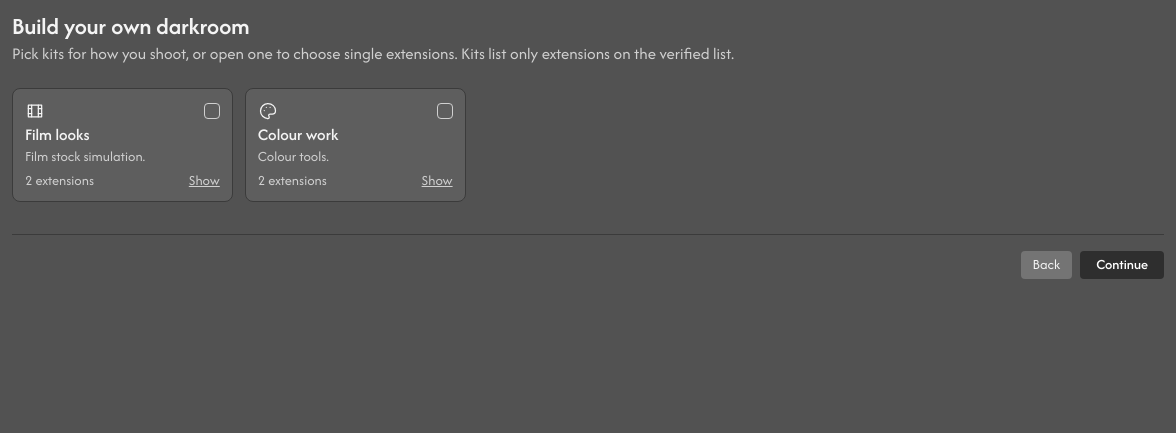
Scenario: KitsStep › shows a kit as mixed after one of its extensions is unticked
Click the checkbox labelled "Film looks" at (122, 133), box top-left (25, 101), bottom-right (220, 165)
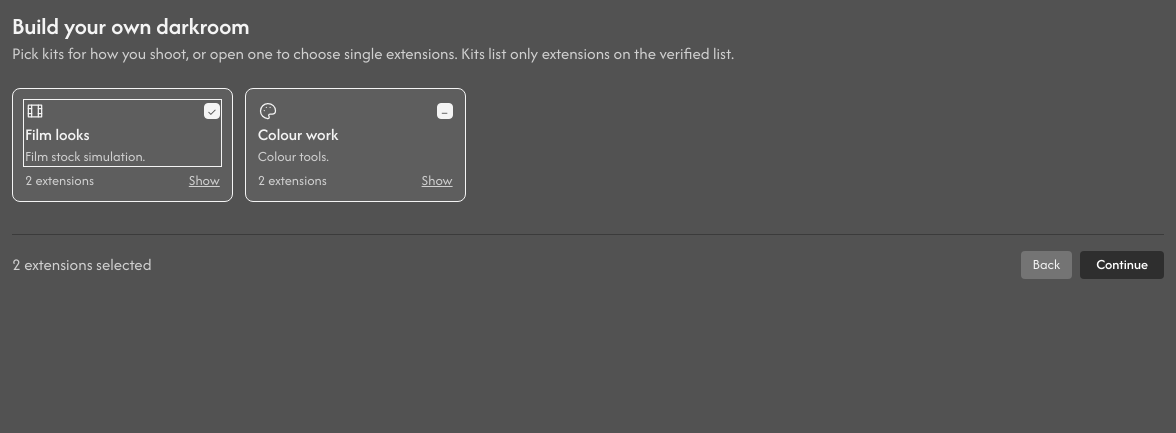
Click the button with aria-label "Show Film looks extensions" at (204, 181), box top-left (189, 173), bottom-right (220, 189)
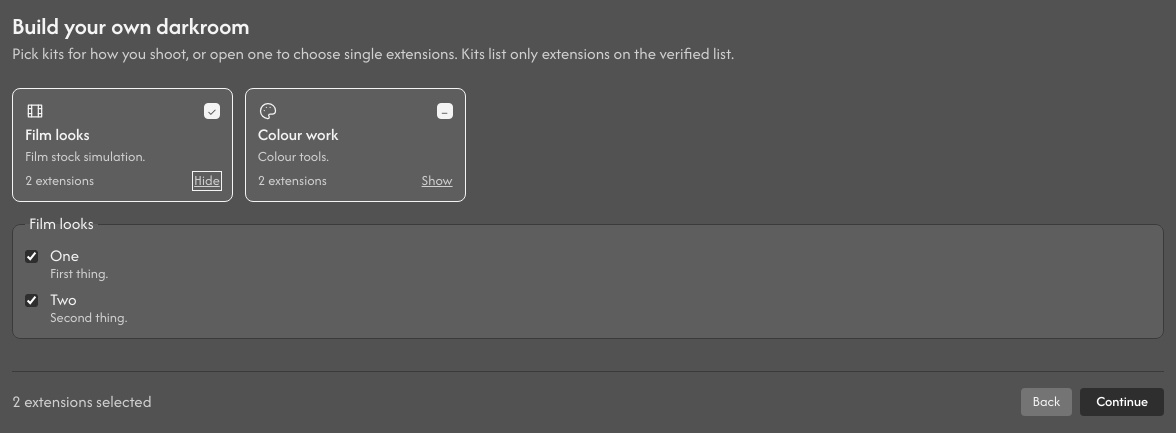
Click the checkbox labelled "One First thing." at (32, 256), box top-left (25, 250), bottom-right (38, 263)
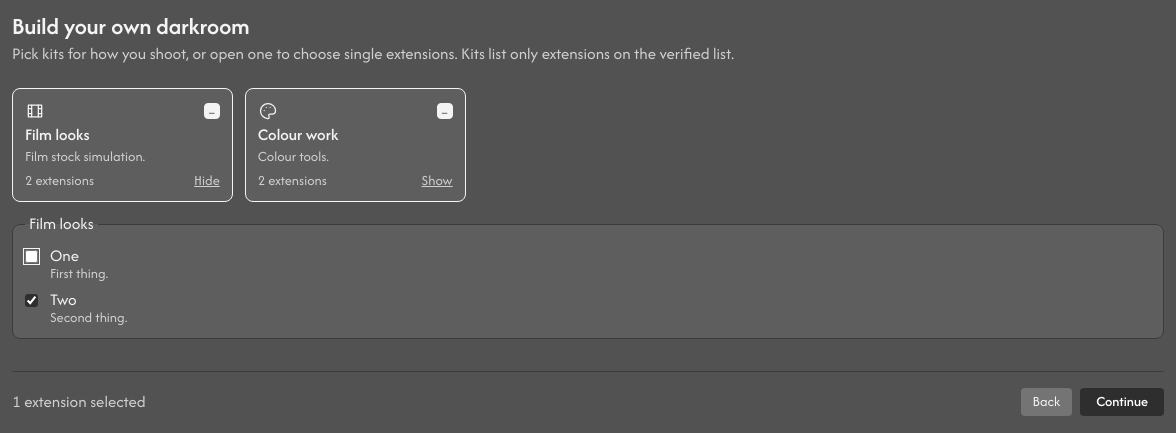
Expected: the text "1 extension selected" is shown, top-left (12, 392), bottom-right (146, 412)
